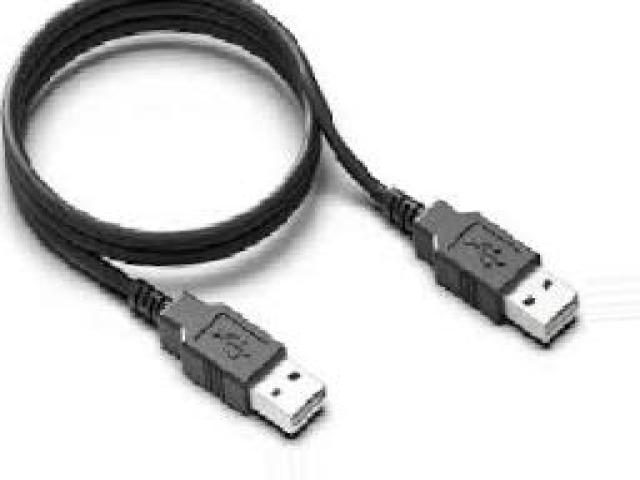wire: (0, 0, 580, 437)
